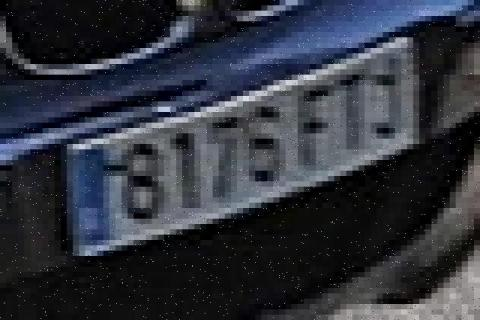LicensePlate: (40, 26, 435, 284)
